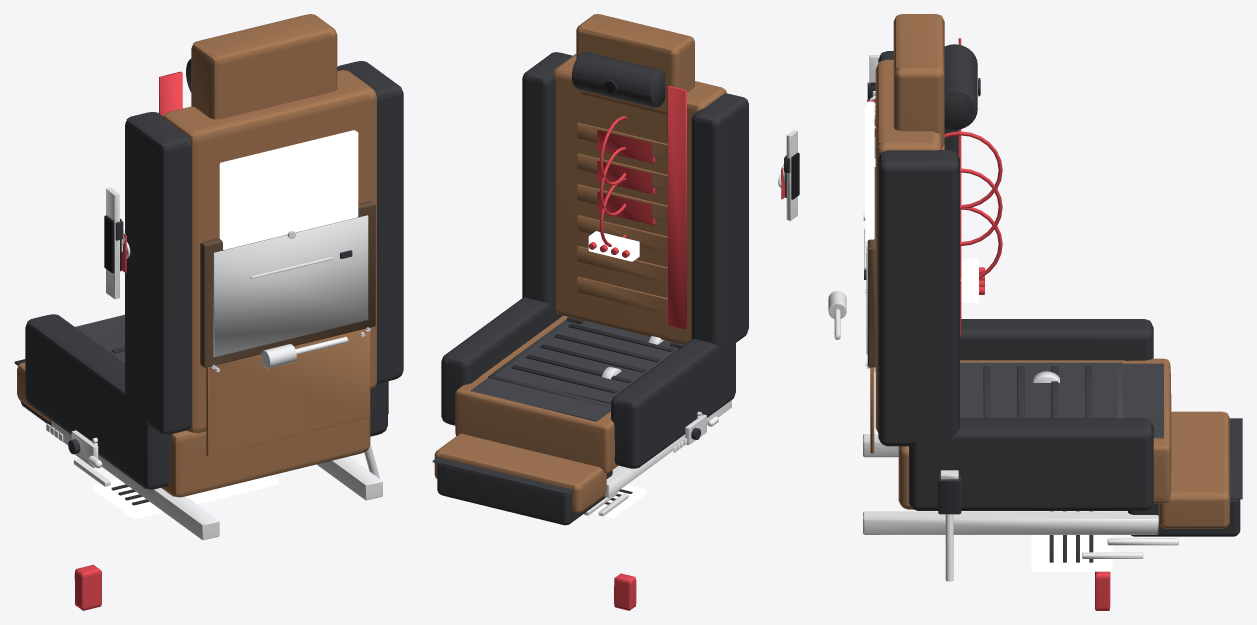
The model's file is seat_luxury_massage.glb.
The picture shows the model from 3 angles, left to right: view 1: azimuth 30°, elevation 25°; view 2: azimuth 150°, elevation 25°; view 3: azimuth 270°, elevation 25°; orthographic projection. The views are drawn at different scales.
Parts seen in each view (by area): view 1: Seat_Massage_Backrest_Wing_L, Seat_Rear_Tray_Table_Alu_Inlay, Seat_Massage_Backrest_Cushion, Seat_Massage_Magazine_Net_Frame, Seat_Massage_Base_Bolster_L, Seat_Massage_Headrest_Core, Seat_Rear_Tablet_OLED_Screen, Seat_Massage_Backrest_Wing_R, Seat_Massage_Base_Cushion, Seat_Rear_Tray_Table_Housing, Seat_Rear_Tablet_Dock, Seat_Slider_Rail_L (+9 smaller); view 2: Seat_Massage_Backrest_Cushion, Seat_Massage_Backrest_Wing_L, Seat_Massage_Base_Bolster_L, Seat_Massage_Backrest_Wing_R, Seat_Massage_Thigh_Extension_CushionBody, Seat_Massage_3DKnit_Cushion_PerforatedFace, Seat_Massage_Headrest_Core, Seat_Massage_Base_Bolster_R, Seat_Massage_Ottoman_Cushion, Seat_Belt_Webbing_Shoulder, Seat_Massage_Ottoman_Calf_Rest_CalfCushion, Seat_Massage_Neck_Pillow (+18 smaller); view 3: Seat_Massage_Backrest_Wing_R, Seat_Massage_Base_Bolster_R, Seat_Massage_Base_Bolster_L, Seat_Massage_Ottoman_Cushion, Seat_Massage_3DKnit_Cushion_PerforatedFace, Seat_Slider_Rail_R, Seat_Massage_Headrest_Core, Seat_Massage_Backrest_Cushion, Seat_Massage_Neck_Pillow, Seat_Massage_Thigh_Extension_PerforatedInsert, Seat_Massage_Ottoman_Calf_Rest_FootrestStepPlate, Seat_Massage_Thigh_Extension_CushionBody (+12 smaller).
Part boxes in pixels (x1,y1,x2,y2): Seat_Massage_Backrest_Wing_L: (125, 112, 191, 434); Seat_Rear_Tray_Table_Alu_Inlay: (213, 215, 368, 357); Seat_Massage_Backrest_Cushion: (163, 70, 377, 432); Seat_Massage_Magazine_Net_Frame: (206, 329, 370, 456); Seat_Massage_Base_Bolster_L: (25, 314, 172, 489); Seat_Massage_Headrest_Core: (191, 14, 337, 119); Seat_Rear_Tablet_OLED_Screen: (227, 138, 355, 245); Seat_Massage_Backrest_Wing_R: (337, 61, 403, 383); Seat_Massage_Base_Cushion: (161, 417, 370, 497); Seat_Rear_Tray_Table_Housing: (200, 201, 375, 367); Seat_Rear_Tablet_Dock: (219, 130, 358, 249); Seat_Slider_Rail_L: (51, 420, 219, 540); Seat_Massage_Backrest_Cushion: (553, 54, 726, 344); Seat_Massage_Backrest_Wing_L: (691, 93, 748, 349); Seat_Massage_Base_Bolster_L: (611, 339, 735, 468); Seat_Massage_Backrest_Wing_R: (522, 52, 572, 308); Seat_Massage_Thigh_Extension_CushionBody: (455, 377, 618, 473); Seat_Massage_3DKnit_Cushion_PerforatedFace: (494, 320, 678, 403); Seat_Massage_Headrest_Core: (576, 14, 694, 114); Seat_Massage_Base_Bolster_R: (441, 297, 562, 425); Seat_Massage_Ottoman_Cushion: (434, 433, 606, 513); Seat_Belt_Webbing_Shoulder: (667, 85, 686, 329); Seat_Massage_Ottoman_Calf_Rest_CalfCushion: (437, 463, 612, 525); Seat_Massage_Neck_Pillow: (572, 52, 665, 107); Seat_Massage_Backrest_Wing_R: (878, 150, 959, 446); Seat_Massage_Base_Bolster_R: (909, 418, 1153, 510); Seat_Massage_Base_Bolster_L: (960, 319, 1153, 360); Seat_Massage_Ottoman_Cushion: (1158, 411, 1229, 528); Seat_Massage_3DKnit_Cushion_PerforatedFace: (960, 363, 1117, 417); Seat_Slider_Rail_R: (863, 511, 1158, 534); Seat_Massage_Headrest_Core: (893, 14, 944, 147); Seat_Massage_Backrest_Cushion: (875, 59, 941, 432); Seat_Massage_Neck_Pillow: (944, 44, 977, 129); Seat_Massage_Thigh_Extension_PerforatedInsert: (1122, 363, 1163, 438); Seat_Massage_Ottoman_Calf_Rest_FootrestStepPlate: (1031, 511, 1112, 571); Seat_Massage_Thigh_Extension_CushionBody: (1125, 358, 1171, 503).
Size of the model in its own units: 0.6885 by 1.31 by 0.8127.
